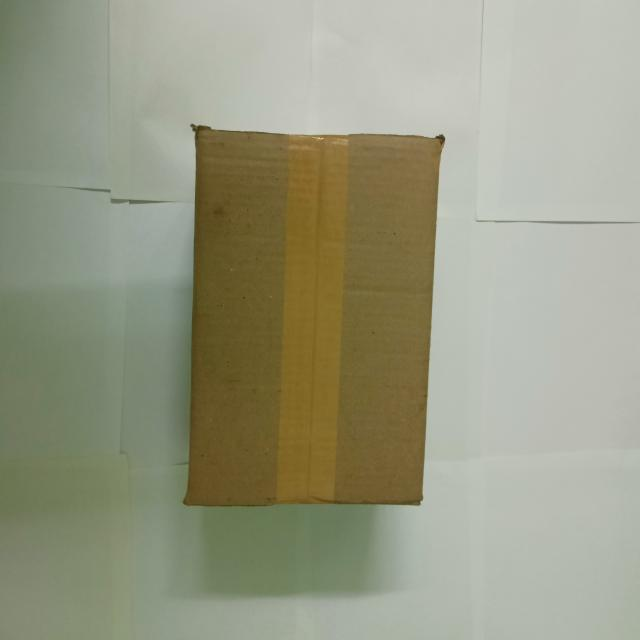box: (183, 127, 446, 511)
